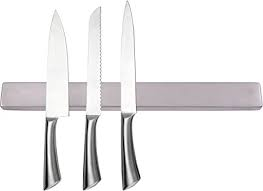knife: (41, 5, 72, 191), (117, 1, 146, 191), (81, 2, 108, 190)
